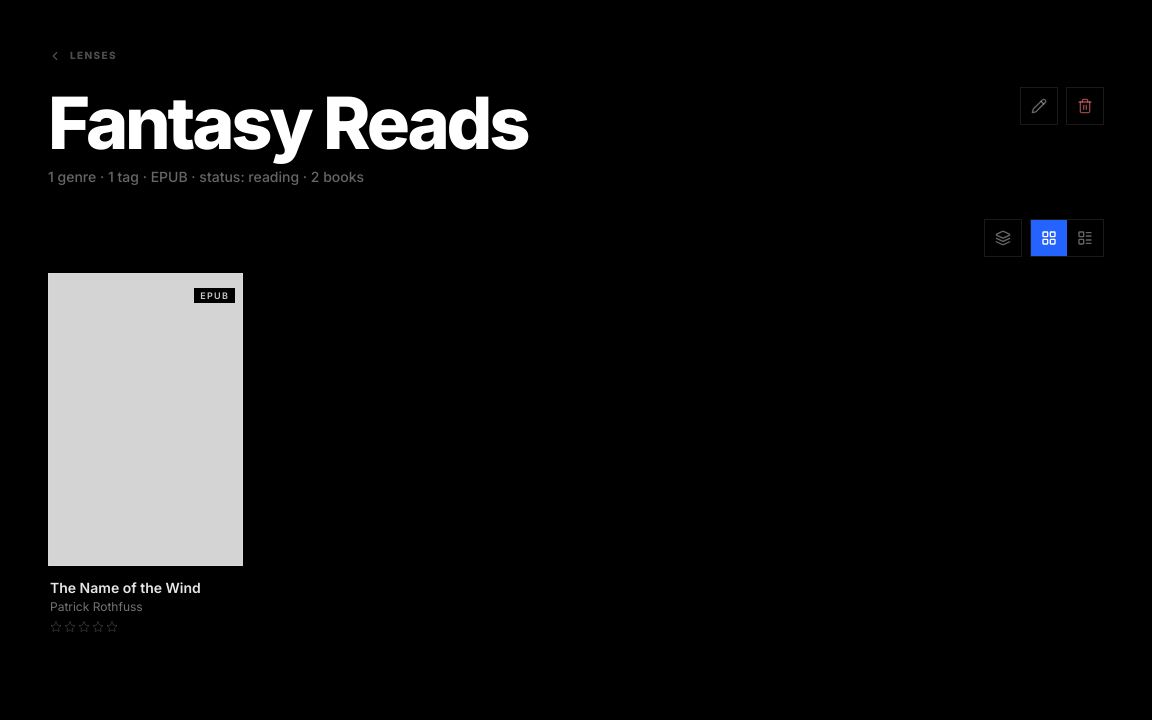
Test: LensDetail › opens edit modal when edit button is clicked
Expected: the heading "Fantasy Reads" is shown, [48,87,527,159]
Click the button with test id "lens-edit-btn".
click(1039, 106)  # box [1020,87,1058,125]
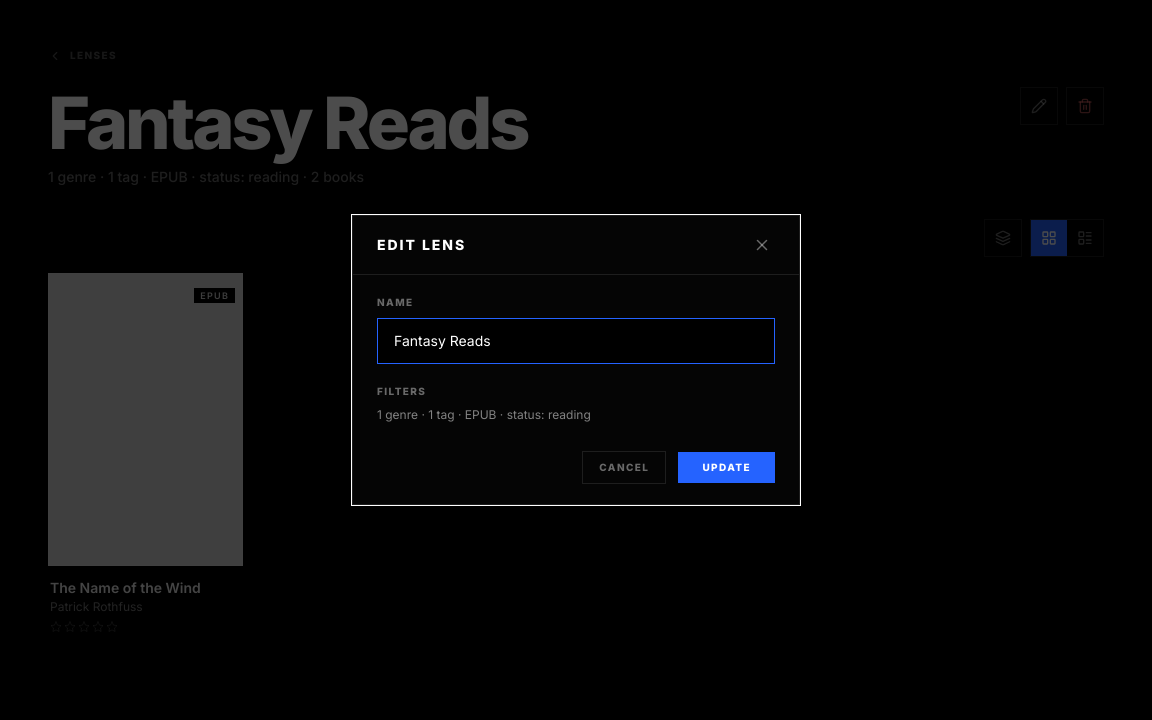
Expected: the element with test id "save-lens-modal" is shown, [352,215,800,505]
